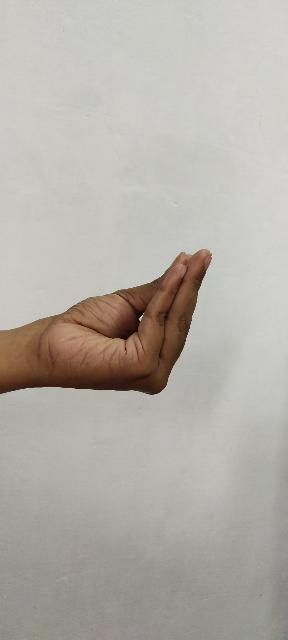mukul: (53, 225, 225, 420)
